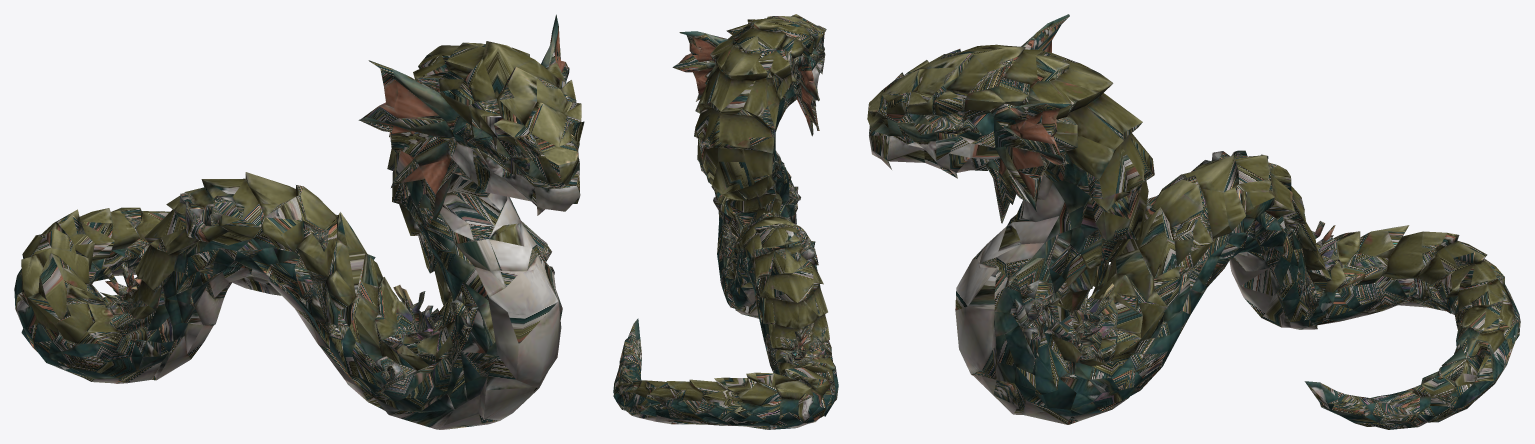
File: fen_serpent.glb
The picture shows the model from 3 angles, left to right: view 1: azimuth 30°, elevation 25°; view 2: azimuth 150°, elevation 25°; view 3: azimuth 270°, elevation 25°; orthographic projection. The views are drawn at different scales.
Parts seen in each view (by area): view 1: Mesh_0; view 2: Mesh_0; view 3: Mesh_0.
Boxes of the visible parts, x1,y1,x2,y2 form: Mesh_0: (14, 14, 584, 429); Mesh_0: (613, 14, 838, 429); Mesh_0: (867, 14, 1520, 429).
Bounding box in the file's own units: 1.23 × 1.22 × 1.89.
Materials: 1 (1 with a texture image).
